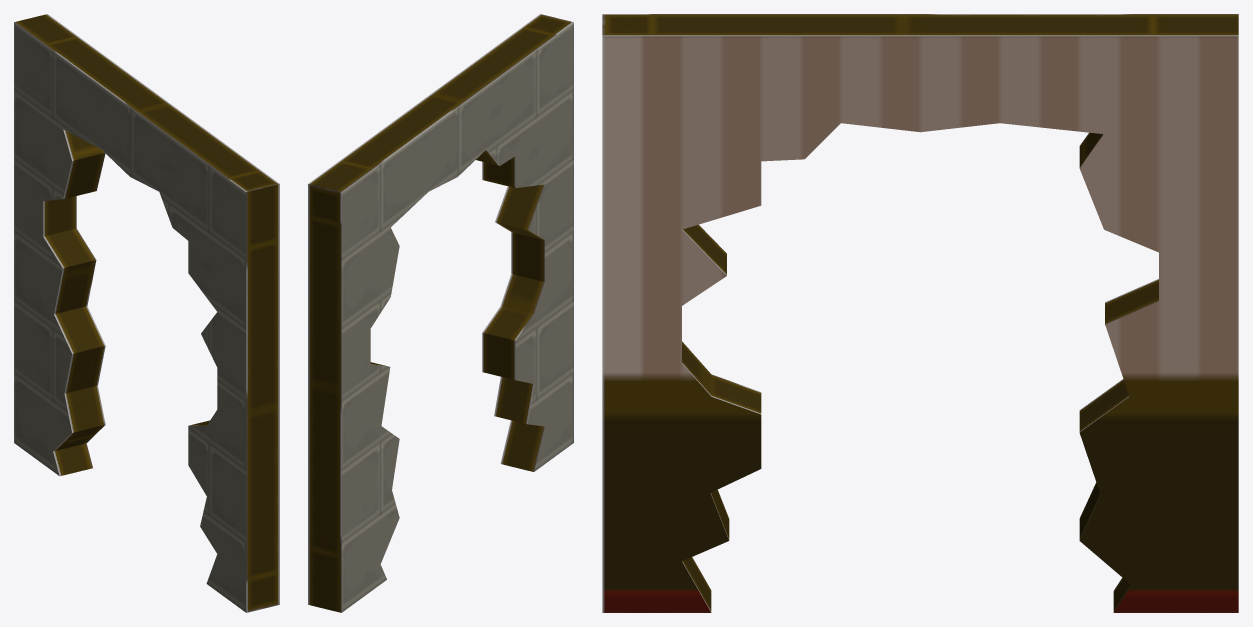
File: Wall_Broken_10.fbx
The picture shows the model from 3 angles, left to right: view 1: azimuth 30°, elevation 25°; view 2: azimuth 150°, elevation 25°; view 3: azimuth 270°, elevation 25°; orthographic projection. The views are drawn at different scales.
Parts seen in each view (by area): view 1: Wall_Broken_10; view 2: Wall_Broken_10; view 3: Wall_Broken_10.
Part boxes in pixels (left/top/right/bottom): Wall_Broken_10: left=14, top=14, right=279, bottom=612; Wall_Broken_10: left=308, top=14, right=573, bottom=612; Wall_Broken_10: left=602, top=14, right=1238, bottom=612.
Size of the model in its own units: 50 by 600 by 600.
